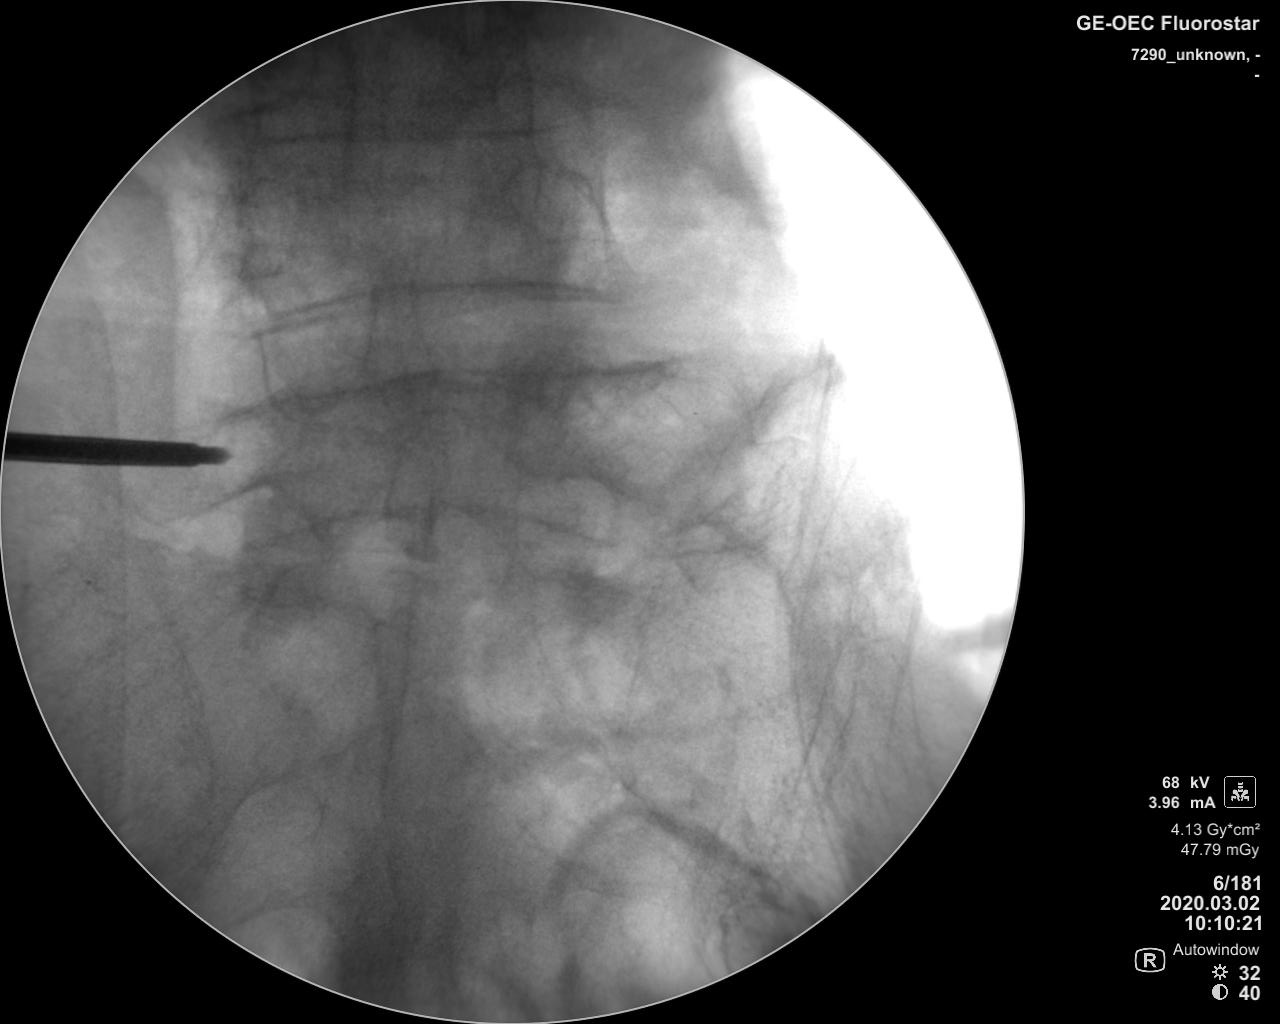eyes: (501, 156, 594, 246), (235, 170, 298, 272)
line: (223, 354, 681, 423), (252, 276, 628, 316), (239, 514, 631, 551), (247, 116, 571, 149)
nose: (363, 269, 430, 410), (381, 428, 435, 557)
